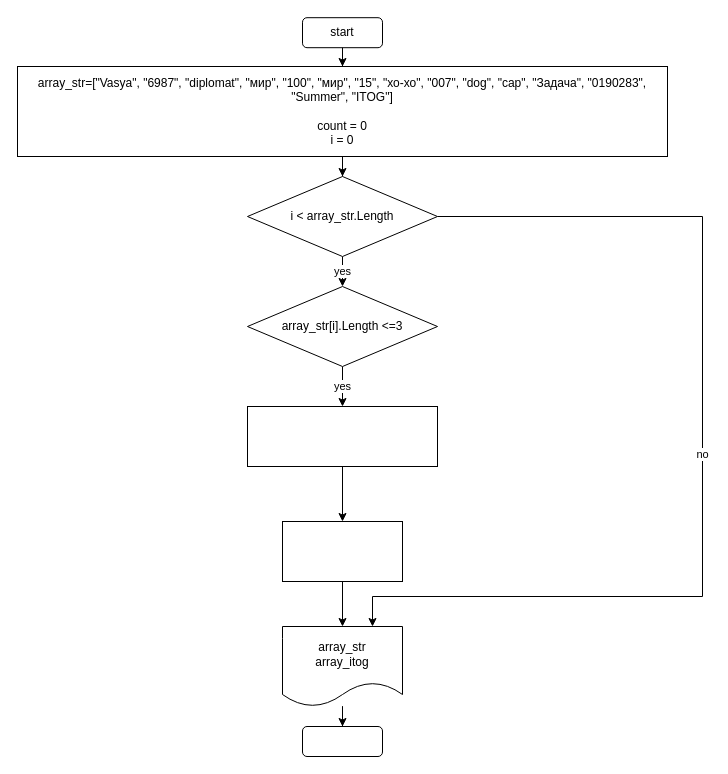
Some shapes in this 728 by 774 pixel diagram are drawn without their labels. The centre of each missing label's shape, as x and y in pixels:
array_itog[count] = array_str[i] count = count +1: (342,436)
i = i + 1: (342,551)
stop: (342,741)
